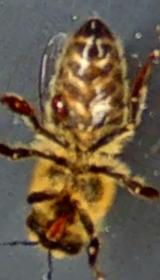varroa_mite: (49, 85, 74, 132)
